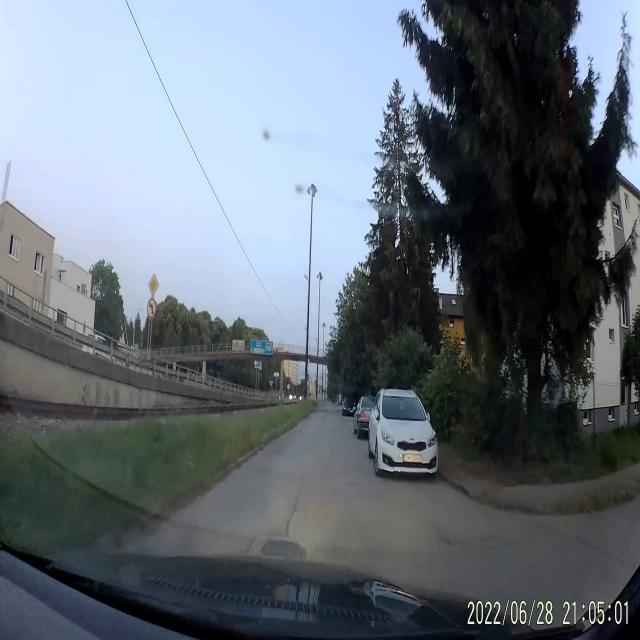Manhole: (258, 534, 308, 560)
